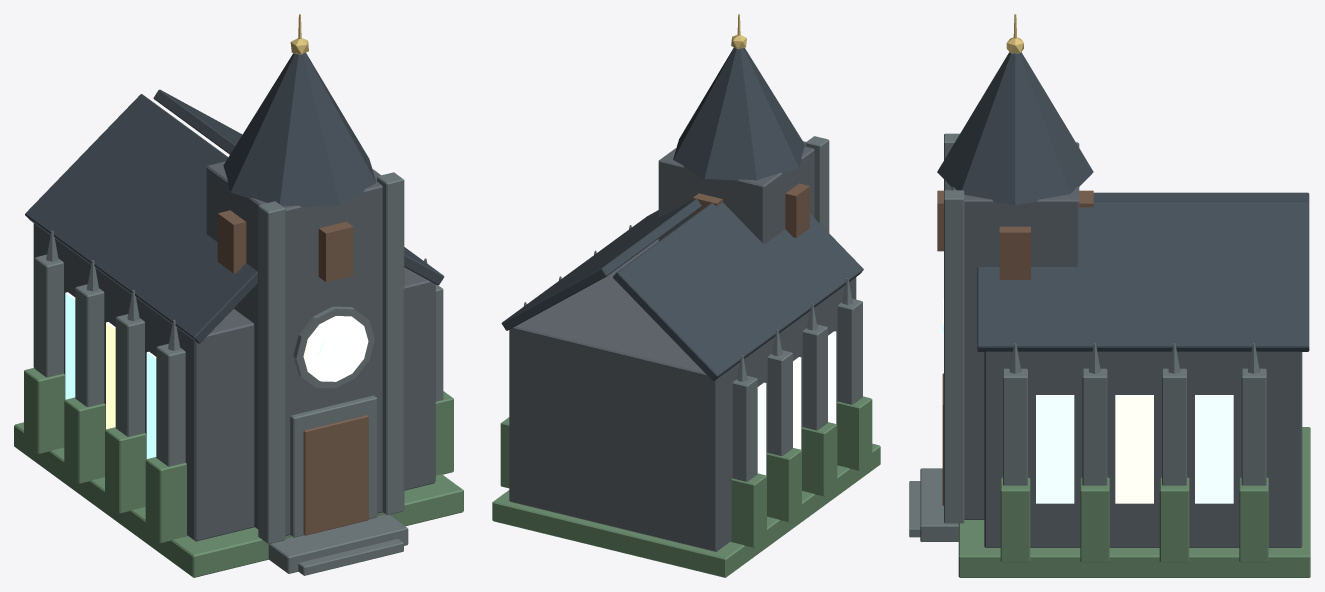
The model's file is outdoor_church.glb.
The picture shows the model from 3 angles, left to right: view 1: azimuth 30°, elevation 25°; view 2: azimuth 150°, elevation 25°; view 3: azimuth 270°, elevation 25°; orthographic projection. The views are drawn at different scales.
Parts seen in each view (by area): view 1: Outdoor_Church; view 2: Outdoor_Church; view 3: Outdoor_Church.
Boxes of the visible parts, x1=… form: Outdoor_Church: x1=14, y1=14, x2=463, y2=577; Outdoor_Church: x1=492, y1=14, x2=880, y2=577; Outdoor_Church: x1=909, y1=14, x2=1310, y2=577.
Bounding box in the file's own units: 10.55 × 17.46 × 12.73.
